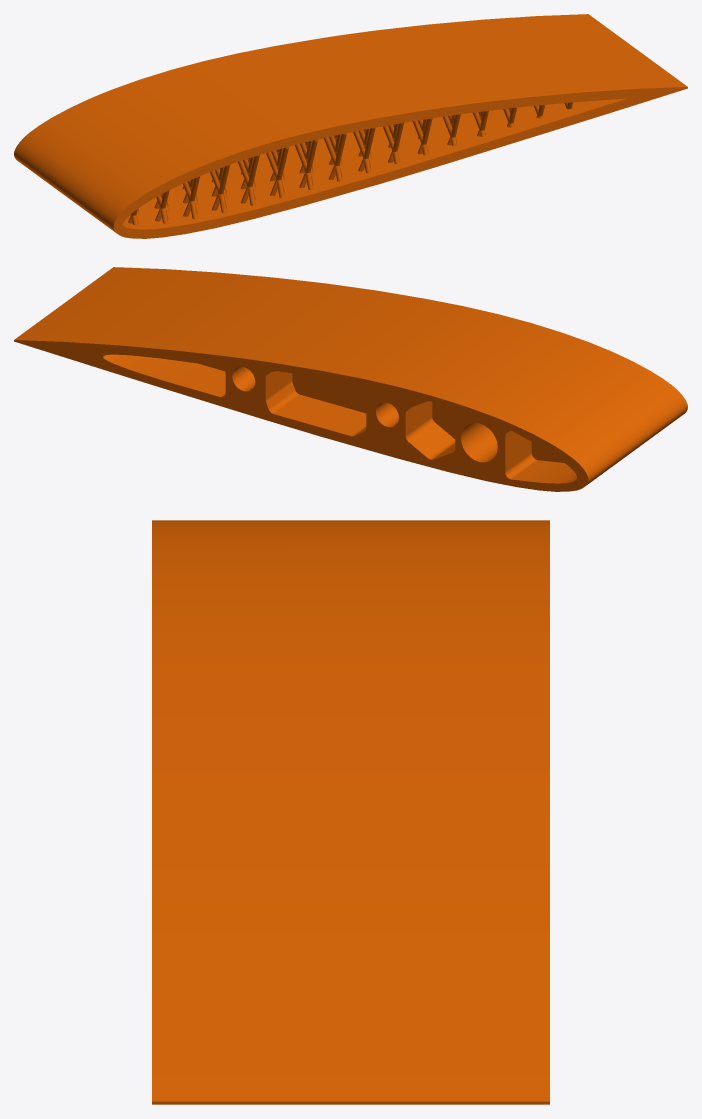
File: kagome.gltf
3 views of the same model, one above another, from view 1: azimuth 30°, elevation 25°; view 2: azimuth 150°, elevation 25°; view 3: azimuth 270°, elevation 25° (orthographic). The views are drawn at different scales.
Visible parts, largest first — view 1: kagome; view 2: kagome; view 3: kagome.
Part boxes in pixels (box(x1,y1,x2,y2)): kagome: box(14, 14, 687, 238); kagome: box(14, 267, 687, 491); kagome: box(152, 520, 549, 1104).
Size of the model in its own units: 0.1 by 0.0121 by 0.03.
